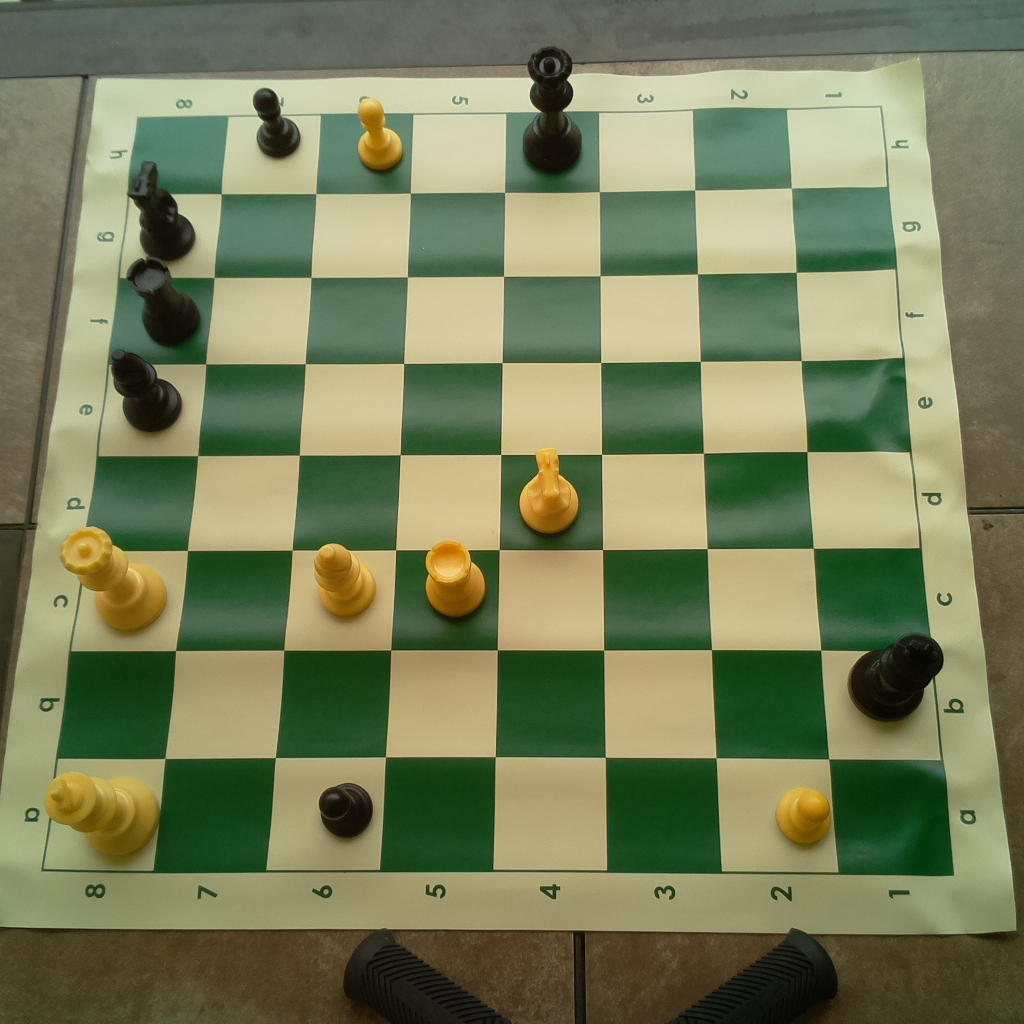black_bishop: (102, 347, 184, 434)
black_king: (846, 631, 945, 725)
black_knight: (125, 154, 199, 261)
black_pawn: (246, 87, 306, 160), (314, 777, 380, 840)
black_queen: (511, 41, 593, 177)
black_rook: (120, 253, 203, 345)
file_a: (44, 758, 958, 877)
file_b: (57, 653, 942, 760)
file_c: (68, 551, 932, 648)
file_d: (83, 452, 923, 549)
file_e: (99, 356, 914, 452)
file_f: (106, 269, 905, 361)
file_g: (119, 187, 896, 277)
file_h: (127, 108, 893, 196)
outline: (42, 106, 957, 877)
rank_1: (785, 105, 955, 875)
rank_2: (693, 106, 841, 874)
rank_3: (598, 110, 724, 870)
rank_4: (488, 115, 606, 870)
rank_5: (379, 115, 507, 870)
rank_6: (264, 113, 414, 870)
rank_7: (154, 113, 321, 871)
rank_8: (42, 117, 228, 871)
white_bishop: (308, 538, 379, 619)
white_king: (36, 770, 162, 858)
white_knight: (510, 444, 583, 535)
white_pawn: (773, 782, 834, 849), (354, 97, 405, 171)
white_queen: (58, 523, 173, 631)
white_rook: (416, 534, 489, 621)
